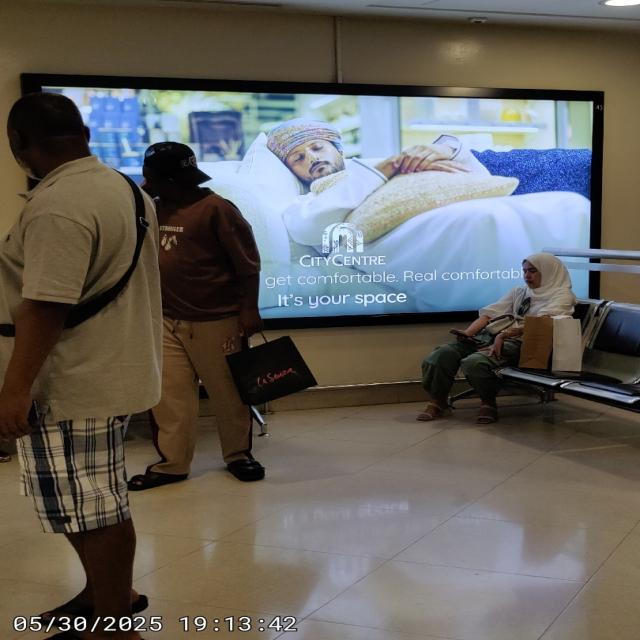digital-board-medium: (22, 70, 595, 317)
